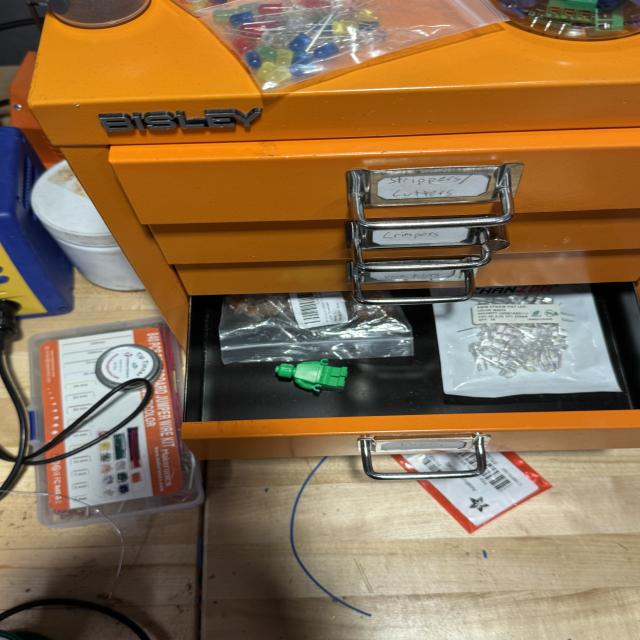Green Mini Figure: (275, 359, 348, 392)
